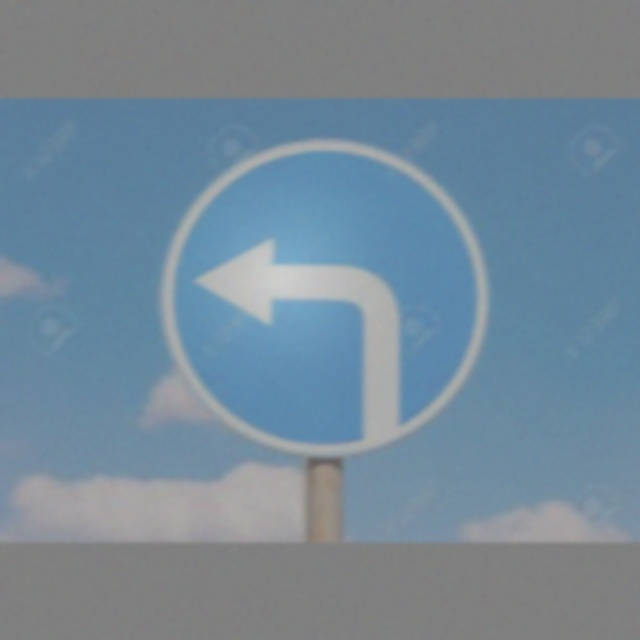Compulsory_Turn_Left_Ahead: (161, 143, 485, 445)
